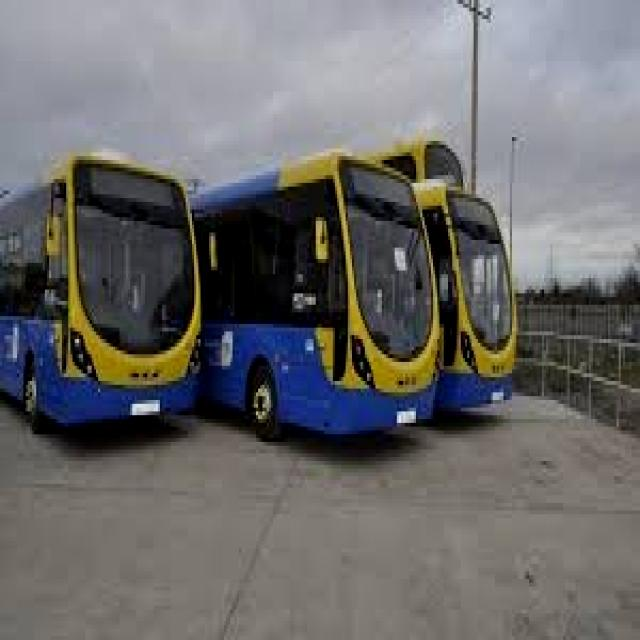bus: (200, 138, 448, 465), (1, 133, 211, 467), (421, 178, 544, 429)
